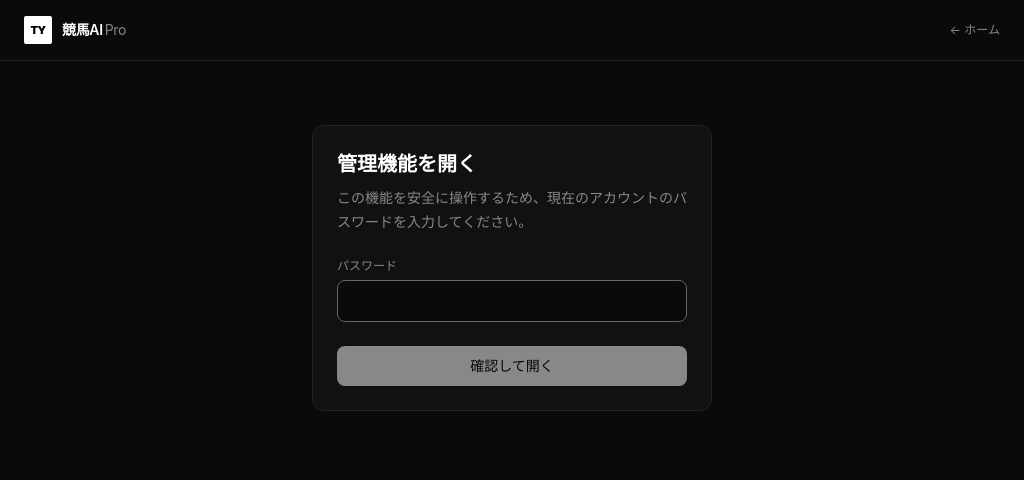
AdminActionRouteGuard › keeps protected content unmounted after a failed password check
Type "wrong-password" into the password field labelled "パスワード".
click(512, 301); type("wrong-password")  # box x1=337 y1=280 x2=687 y2=322
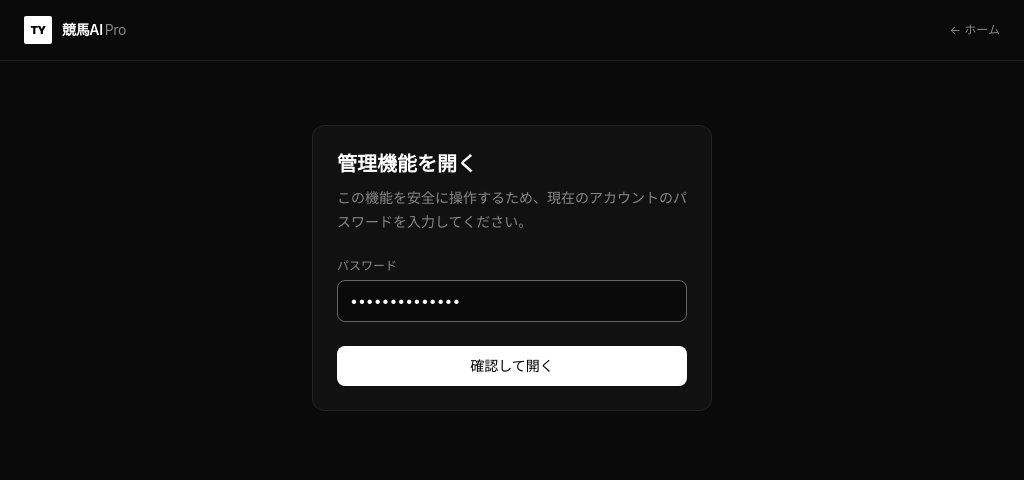
Click the button "確認して開く".
click(512, 366)  # box x1=337 y1=346 x2=687 y2=386
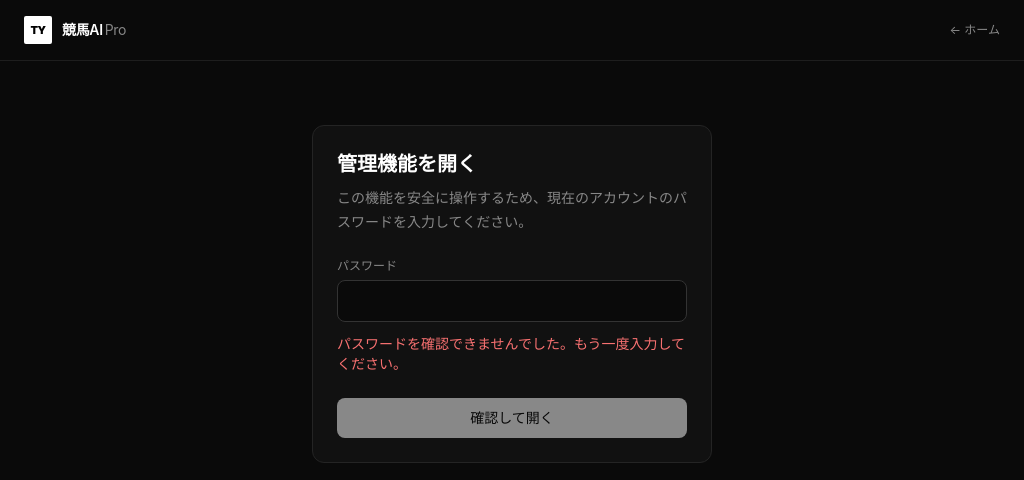
Result: the message shows "パスワードを確認できませんでした" at x1=337 y1=335 x2=685 y2=372
Result: the password field labelled "パスワード" is empty at x1=337 y1=280 x2=687 y2=322
